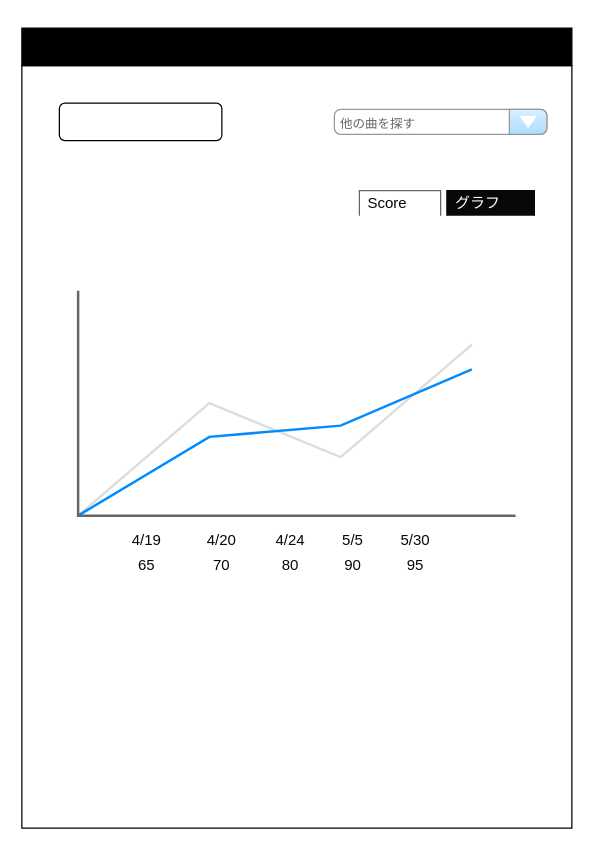
The diagram is 594 pixels wide and 850 high, and some of its shapes have lost their labels. Each missing label, with the box of its shape:
Piano採点: (21, 27, 572, 66)
エリーゼのために: (58, 102, 222, 141)
